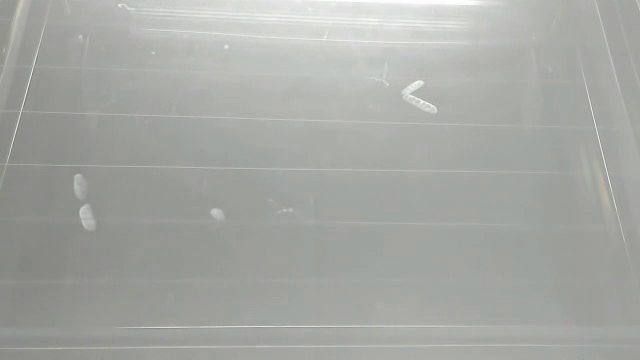alpha: (69, 169, 105, 233), (397, 74, 441, 120), (207, 204, 228, 224)
